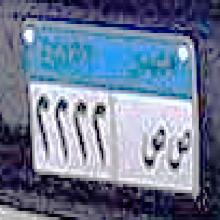2: (89, 99, 112, 167), (70, 96, 89, 167), (33, 93, 52, 160), (54, 92, 70, 158)
saad: (138, 121, 166, 175), (166, 127, 191, 174)
